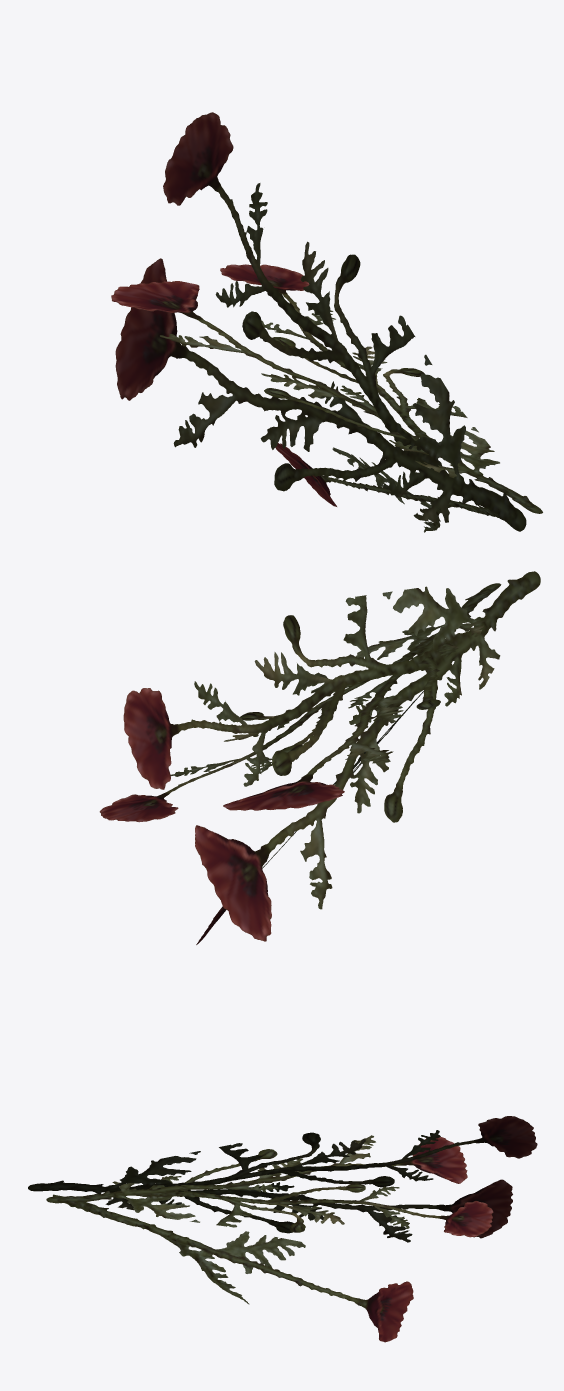
Rendered from MEP_RedFlower_01_LOD_01.fbx.
The picture shows the model from 3 angles, top to bottom: view 1: azimuth 30°, elevation 25°; view 2: azimuth 150°, elevation 25°; view 3: azimuth 270°, elevation 25°; orthographic projection. The views are drawn at different scales.
Visible parts, largest first — view 1: MEP_RedFlower_01_LOD_01; view 2: MEP_RedFlower_01_LOD_01; view 3: MEP_RedFlower_01_LOD_01.
Boxes of the visible parts, x1=… form: MEP_RedFlower_01_LOD_01: x1=111, y1=112, x2=542, y2=532; MEP_RedFlower_01_LOD_01: x1=99, y1=571, x2=540, y2=944; MEP_RedFlower_01_LOD_01: x1=28, y1=1116, x2=537, y2=1342.
Size of the model in its own units: 0.5409 by 0.6347 by 1.06.
